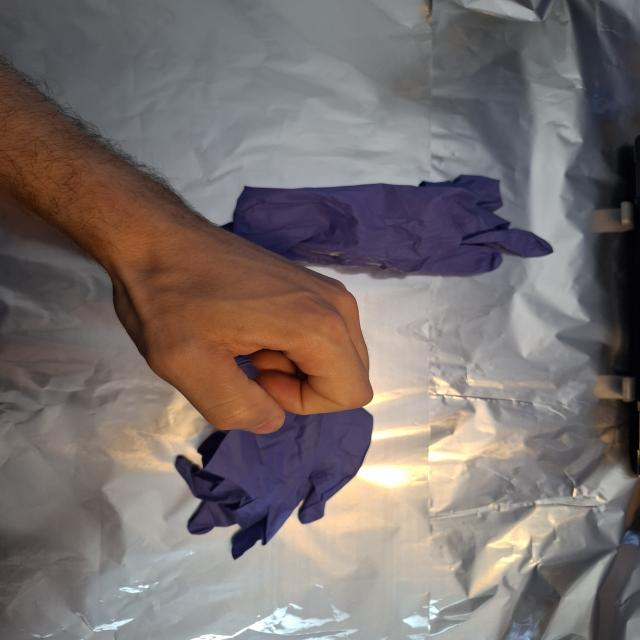glove_off: (101, 229, 376, 436)
